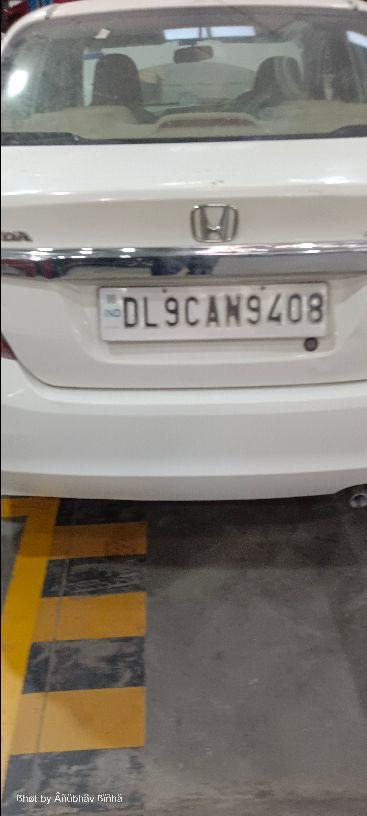license_plate: (96, 279, 330, 343)
